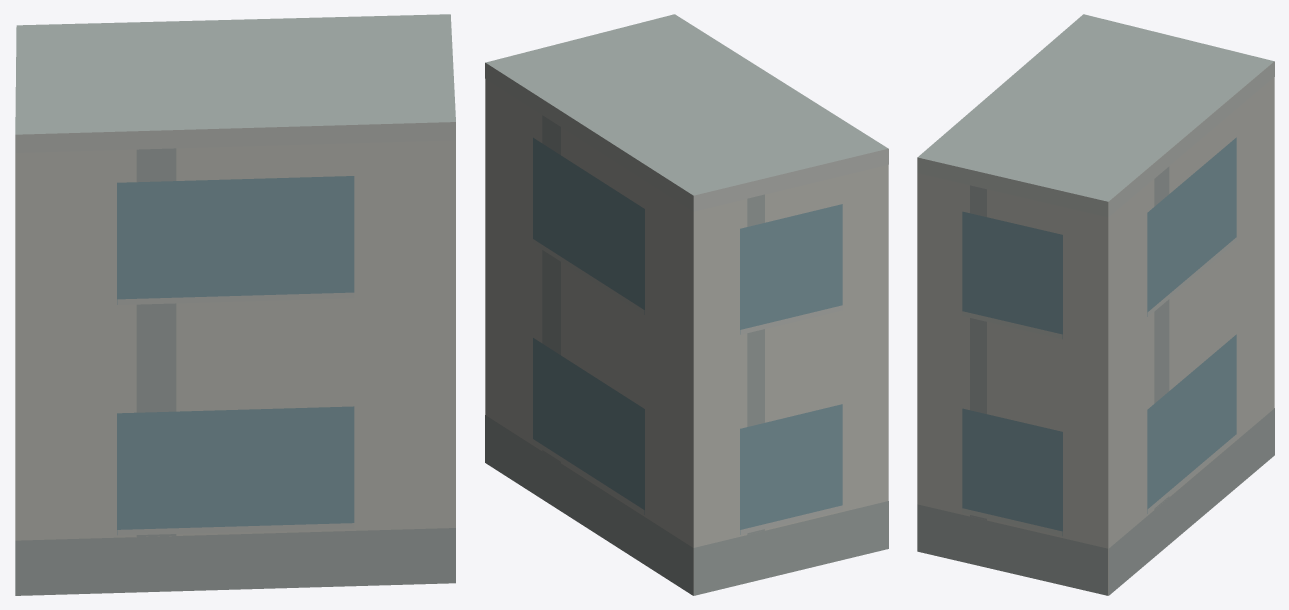
Rendered from survey-upis-32911180.glb.
The picture shows the model from 3 angles, left to right: view 1: azimuth 30°, elevation 25°; view 2: azimuth 150°, elevation 25°; view 3: azimuth 270°, elevation 25°; orthographic projection. The views are drawn at different scales.
Visible parts, largest first — view 1: survey-upis-32911180.tmp; view 2: survey-upis-32911180.tmp; view 3: survey-upis-32911180.tmp.
Part boxes in pixels (x1,y1,x2,y2): survey-upis-32911180.tmp: (15, 14, 455, 595); survey-upis-32911180.tmp: (485, 14, 888, 595); survey-upis-32911180.tmp: (917, 14, 1274, 595).
Bounding box in the file's own units: 6.24 × 6.1 × 5.02.
